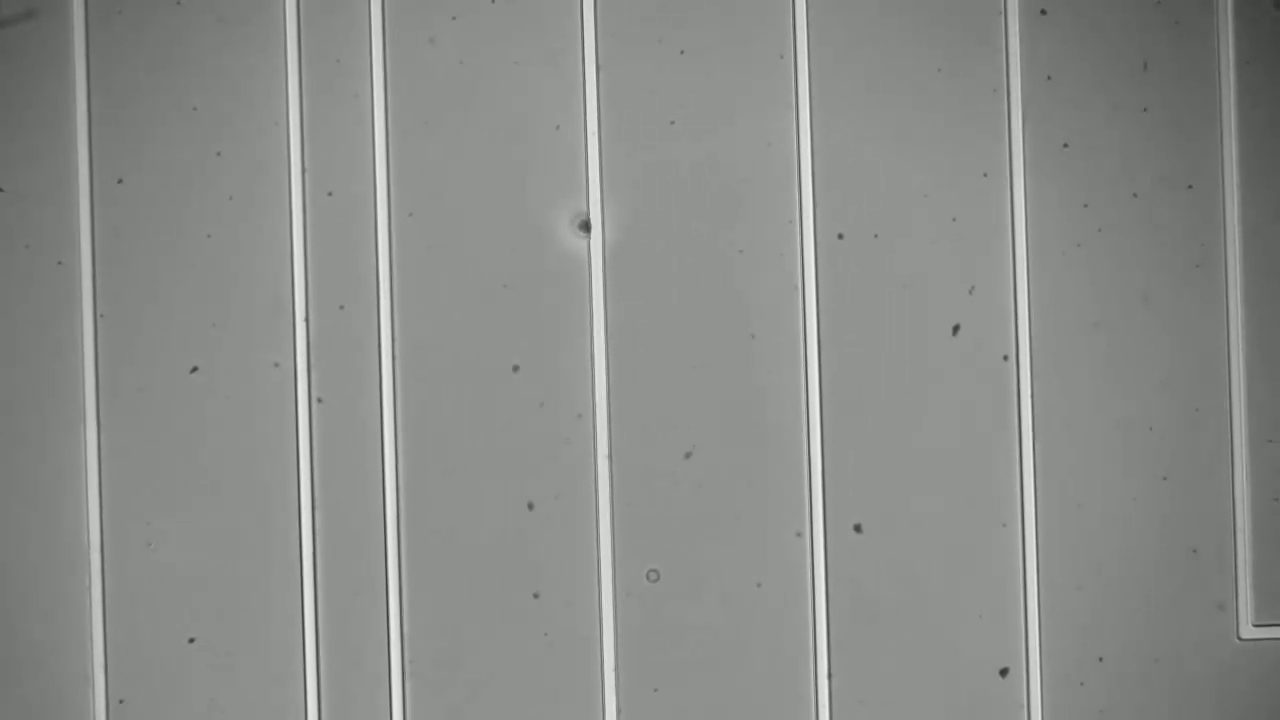stains_enbedded: (557, 200, 615, 247)
